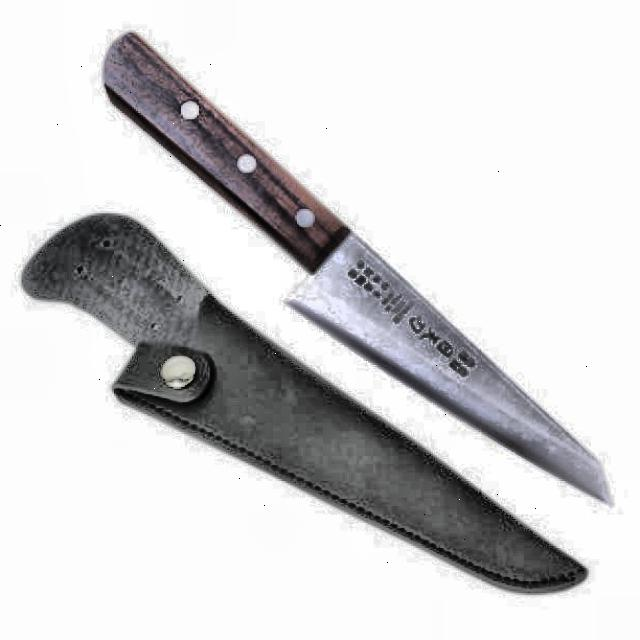knife: (100, 26, 617, 507)
